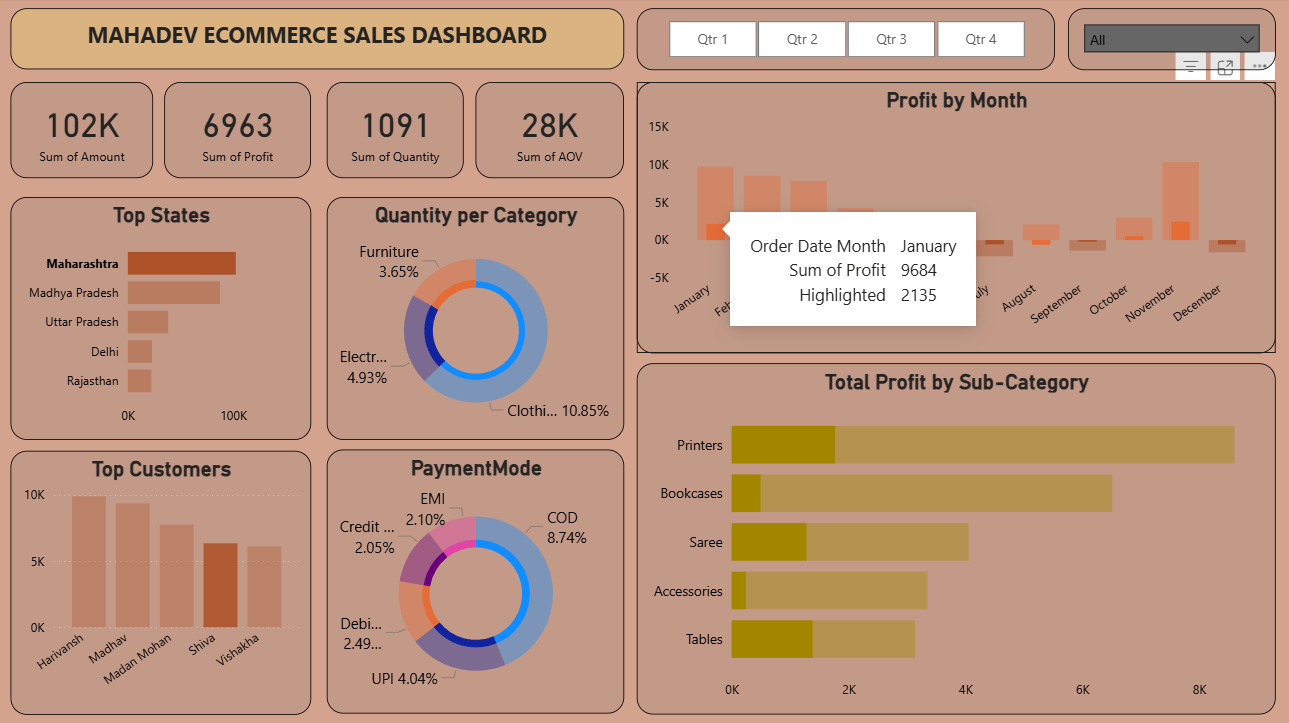

The dashboard page shown, as its layout file describes it:
{"tool":"powerbi","page":{"name":"Page 1","canvas":[1280,720],"ordinal":0},"visuals":[{"type":"textbox","box":[12.3,11,602.4,60.4],"z":0},{"type":"columnChart","title":"Profit by Month","fields":{"Y":["Sum(Details.Profit)"],"Category":["Orders.Order Date.Variation.Date Hierarchy.Month"]},"box":[627.1,83.7,627.1,266.2],"z":1000},{"type":"clusteredBarChart","title":"Total Profit by Sub-Category","fields":{"Category":["Details.Sub-Category"],"Y":["Sum(Details.Profit)"]},"box":[627.1,359.5,627.1,344.4],"z":2000},{"type":"pieChart","title":"Quantity per Category","fields":{"Category":["Details.Category"],"Y":["Sum(Details.Quantity)"]},"box":[322.5,196.2,292.3,238.8],"z":3000},{"type":"pieChart","title":" PaymentMode","fields":{"Y":["Sum(Details.Quantity)"],"Category":["Details.PaymentMode"]},"box":[322.5,444.6,292.3,259.3],"z":4000},{"type":"card","fields":{"Values":["Sum(Details.Profit)"]},"box":[163.3,83.7,144.1,94.7],"z":5000},{"type":"card","fields":{"Values":["Sum(Details.Amount)"]},"box":[12.3,83.7,140,94.7],"z":6000},{"type":"card","fields":{"Values":["Sum(Details.Quantity)"]},"box":[322.5,83.7,134.5,94.7],"z":7000},{"type":"card","fields":{"Values":["Sum(Details.AOV)"]},"box":[469.3,83.7,145.5,94.7],"z":8000},{"type":"barChart","title":"Top States","fields":{"Category":["Orders.State"],"Y":["Sum(Details.Amount)"]},"box":[12.3,196.2,295,238.8],"z":9000},{"type":"columnChart","title":" Top Customers","fields":{"Category":["Orders.CustomerName"],"Y":["Sum(Details.Amount)"]},"box":[12,445,295,259],"z":10000},{"type":"slicer","fields":{"Values":["Orders.Order Date.Variation.Date Hierarchy.Quarter"]},"box":[627,11.2,410.5,61],"z":11000},{"type":"slicer","fields":{"Values":["Orders.City"]},"box":[1049.9,11.2,204,61],"z":12000}]}

Visuals, with their boxes in screenshot pixels (x1, y1, x2, y2), scaled from the page's 1280x720 canvas onto the 1289x723 screenshot:
textbox: rect(12, 11, 619, 72)
"Profit by Month" columnChart: rect(632, 84, 1263, 351)
"Total Profit by Sub-Category" clusteredBarChart: rect(632, 361, 1263, 707)
"Quantity per Category" pieChart: rect(325, 197, 619, 437)
" PaymentMode" pieChart: rect(325, 446, 619, 707)
card - Sum(Details.Profit): rect(164, 84, 310, 179)
card - Sum(Details.Amount): rect(12, 84, 153, 179)
card - Sum(Details.Quantity): rect(325, 84, 460, 179)
card - Sum(Details.AOV): rect(473, 84, 619, 179)
"Top States" barChart: rect(12, 197, 309, 437)
" Top Customers" columnChart: rect(12, 447, 309, 707)
slicer - Orders.Order Date.Variation.Date Hierarchy.Quarter: rect(631, 11, 1045, 73)
slicer - Orders.City: rect(1057, 11, 1263, 73)
